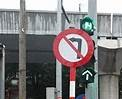No_turn_left: (51, 27, 97, 68)
